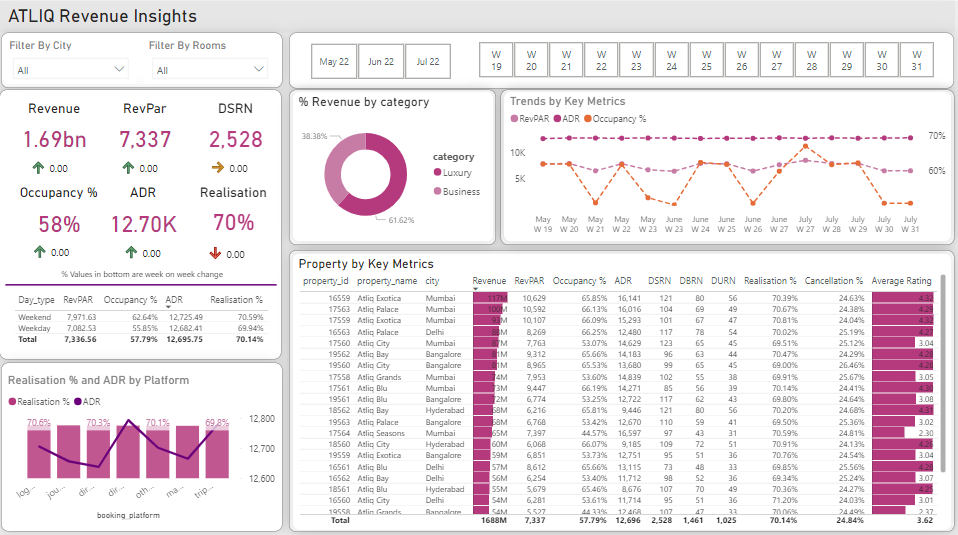

The page's visual inventory and layout, read from the dashboard file:
{"tool":"powerbi","page":{"name":"Main","canvas":[1280,720],"ordinal":0},"visuals":[{"type":"textbox","box":[2,0,1274,42],"z":0},{"type":"textbox","box":[388.9,41.7,886.7,74.4],"z":1000},{"type":"textbox","box":[3.3,42.8,375.6,73.9],"z":2000},{"type":"textbox","box":[388.6,332.9,887.1,375.7],"z":3000},{"type":"textbox","box":[670,117.7,605.2,207.6],"z":4000},{"type":"textbox","box":[387.9,117.8,275.8,207.5],"z":5000},{"type":"textbox","box":[2.9,118.6,375.7,360],"z":6000},{"type":"tableEx","title":"Property by Key Metrics","fields":{"Values":["dim_hotels.property_id","dim_hotels.property_name","dim_hotels.city","Key_matrixs.Revenue","Key_matrixs.RevPAR","Key_matrixs.Occupancy %","Key_matrixs.ADR","Key_matrixs.DSRN","Key_matrixs.DBRN","Key_matrixs.DURN","Key_matrixs.Realisation %","Key_matrixs.Cancellation %"]},"box":[392,336,880,370],"z":7000},{"type":"slicer","title":"Filter By City","fields":{"Values":["dim_hotels.city"]},"box":[10,50.6,173.9,60],"z":8000},{"type":"slicer","title":"Filter By Rooms","fields":{"Values":["dim_rooms.room_class"]},"box":[195,50.6,173.9,60],"z":9000},{"type":"slicer","title":"Filter By Rooms","fields":{"Values":["dim_date.mmm yy"]},"box":[392.2,50.6,235.6,60],"z":10000},{"type":"slicer","fields":{"Values":["dim_date.week no"]},"box":[616.7,48.9,655.6,60],"z":11000},{"type":"tableEx","fields":{"Values":["Key_matrixs.Revenue WoW change %"]},"box":[33.3,186.7,83.3,53.3],"z":12000},{"type":"card","title":"Revenue","fields":{"Values":["Key_matrixs.Revenue"]},"box":[21.4,132,105.6,80],"z":13000},{"type":"donutChart","title":"% Revenue by category","fields":{"Category":["dim_hotels.category"],"Y":["Key_matrixs.Revenue"]},"box":[391.2,120.6,269.2,201.5],"z":14000},{"type":"lineChart","title":"Trends by Key Metrics","fields":{"Category":["dim_date.mmm yy.Variation.Date Hierarchy.Month","dim_date.week no"],"Y":["Key_matrixs.RevPAR","Key_matrixs.ADR"],"Y2":["Key_matrixs.Occupancy %"]},"box":[674.4,120.5,597,201],"z":15000},{"type":"tableEx","fields":{"Values":["Key_matrixs.Revpar WoW change %"]},"box":[154,185.3,76.7,58.9],"z":16000},{"type":"card","title":"RevPar","fields":{"Values":["Key_matrixs.RevPAR"]},"box":[149.2,132,91.1,80],"z":17000},{"type":"tableEx","fields":{"Values":["Key_matrixs.DSRN WoW change %"]},"box":[273.3,185,90,55],"z":18000},{"type":"card","title":"DSRN","fields":{"Values":["Key_matrixs.DSRN"]},"box":[269.2,132,93.3,80],"z":19000},{"type":"tableEx","fields":{"Values":["Key_matrixs.Occupancy WoW change %"]},"box":[36.7,298,86.7,60],"z":20000},{"type":"card","title":"Occupancy %","fields":{"Values":["Key_matrixs.Occupancy %"]},"box":[21.1,244.7,117.8,81.1],"z":21000},{"type":"tableEx","fields":{"Values":["Key_matrixs.ADR WoW change %"]},"box":[157.8,294.7,91.1,57.8],"z":22000},{"type":"card","title":"ADR","fields":{"Values":["Key_matrixs.ADR"]},"box":[141.1,244.7,102.2,81.1],"z":23000},{"type":"tableEx","fields":{"Values":["Key_matrixs.Realisation WoW change %"]},"box":[270,295,85,56.7],"z":24000},{"type":"card","title":"Realisation","fields":{"Values":["Key_matrixs.Realisation %"]},"box":[262.2,244.7,103.3,76.7],"z":25000},{"type":"textbox","box":[71.4,348.6,240,35.7],"z":26000},{"type":"tableEx","fields":{"Values":["dim_date.Day_type","Key_matrixs.RevPAR","Key_matrixs.Occupancy %","Key_matrixs.ADR","Key_matrixs.Realisation %"]},"box":[15.7,384.3,352.9,85.7],"z":27000},{"type":"textbox","box":[3.3,482.2,375.6,225.6],"z":28000},{"type":"lineStackedColumnComboChart","title":"Realisation % and ADR by Platform","fields":{"Y":["Key_matrixs.Realisation %"],"Y2":["Key_matrixs.ADR"],"Category":["fact_bookings.booking_platform"]},"box":[8,496,366,200],"z":29000},{"type":"shape","box":[10,361.4,361.4,32.9],"z":30000}]}

Visuals, with their boxes in screenshot pixels (x1, y1, x2, y2), scaled from the page's 1280x720 canvas onto the 958x535 screenshot:
textbox: crop(1, 0, 955, 31)
textbox: crop(291, 31, 955, 86)
textbox: crop(2, 32, 284, 87)
textbox: crop(291, 247, 955, 527)
textbox: crop(501, 87, 954, 242)
textbox: crop(290, 88, 497, 242)
textbox: crop(2, 88, 283, 356)
"Property by Key Metrics" tableEx: crop(293, 250, 952, 525)
"Filter By City" slicer: crop(7, 38, 138, 82)
"Filter By Rooms" slicer: crop(146, 38, 276, 82)
"Filter By Rooms" slicer: crop(294, 38, 470, 82)
slicer - dim_date.week no: crop(462, 36, 952, 81)
tableEx - Key_matrixs.Revenue WoW change %: crop(25, 139, 87, 178)
"Revenue" card: crop(16, 98, 95, 158)
"% Revenue by category" donutChart: crop(293, 90, 494, 239)
"Trends by Key Metrics" lineChart: crop(505, 90, 952, 239)
tableEx - Key_matrixs.Revpar WoW change %: crop(115, 138, 173, 181)
"RevPar" card: crop(112, 98, 180, 158)
tableEx - Key_matrixs.DSRN WoW change %: crop(205, 137, 272, 178)
"DSRN" card: crop(201, 98, 271, 158)
tableEx - Key_matrixs.Occupancy WoW change %: crop(27, 221, 92, 266)
"Occupancy %" card: crop(16, 182, 104, 242)
tableEx - Key_matrixs.ADR WoW change %: crop(118, 219, 186, 262)
"ADR" card: crop(106, 182, 182, 242)
tableEx - Key_matrixs.Realisation WoW change %: crop(202, 219, 266, 261)
"Realisation" card: crop(196, 182, 274, 239)
textbox: crop(53, 259, 233, 286)
tableEx - dim_date.Day_type x Key_matrixs.RevPAR: crop(12, 286, 276, 349)
textbox: crop(2, 358, 284, 526)
"Realisation % and ADR by Platform" lineStackedColumnComboChart: crop(6, 369, 280, 517)
shape: crop(7, 269, 278, 293)
